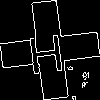H: (25, 25, 66, 75)
